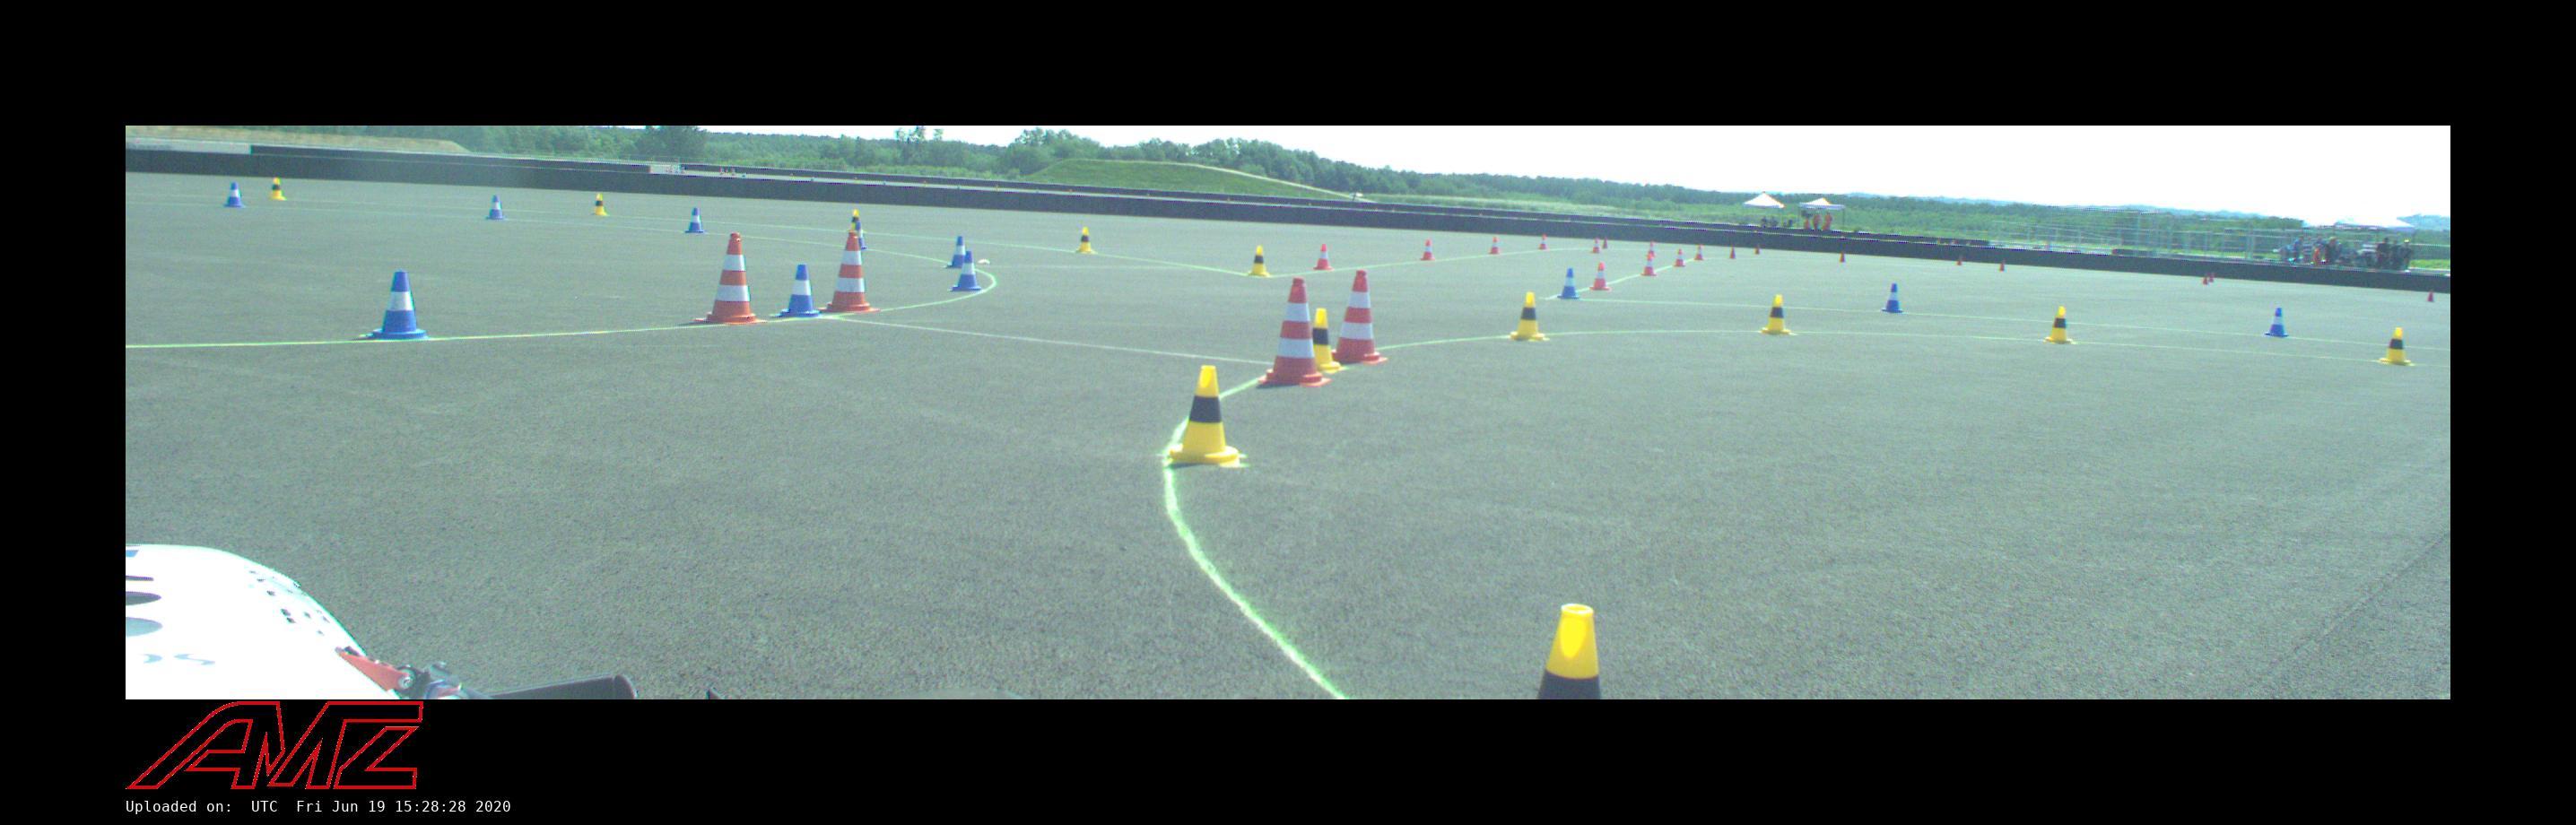blue_cone: (366, 271, 430, 339), (779, 265, 820, 317), (951, 251, 981, 291), (2266, 309, 2288, 337), (1557, 270, 1579, 299), (1881, 283, 1902, 312), (946, 237, 964, 268), (223, 182, 243, 207), (486, 196, 504, 220), (687, 209, 705, 232), (856, 220, 867, 250)
large_orange_cone: (1258, 276, 1331, 386), (697, 233, 766, 322), (1331, 271, 1387, 365), (817, 232, 879, 312)
orange_cone: (1314, 243, 1332, 270), (1590, 263, 1608, 289), (1641, 256, 1656, 276), (1419, 240, 1433, 260), (1674, 250, 1686, 268), (1488, 238, 1500, 253), (1538, 235, 1548, 250), (1694, 245, 1704, 260), (1648, 242, 1656, 258), (1592, 238, 1600, 253)
unknown_cone: (2427, 289, 2433, 301), (2203, 274, 2210, 286), (1998, 260, 2004, 271), (1838, 251, 1845, 261), (1730, 247, 1735, 258), (1957, 256, 1962, 266), (2210, 273, 2215, 283), (1755, 243, 1760, 253), (1603, 238, 1607, 248)
yellow_cone: (1170, 366, 1239, 467), (1539, 605, 1600, 700), (1313, 309, 1341, 368), (1510, 293, 1544, 340), (2380, 329, 2412, 365), (1761, 296, 1791, 334), (2045, 307, 2073, 343), (1247, 247, 1270, 276), (1076, 228, 1094, 253), (591, 194, 609, 215), (269, 177, 286, 200), (848, 209, 858, 232)
